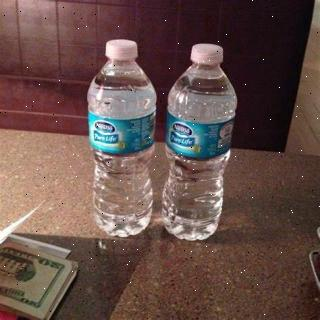Plastic-bottle: (160, 31, 239, 255), (87, 38, 158, 240)
